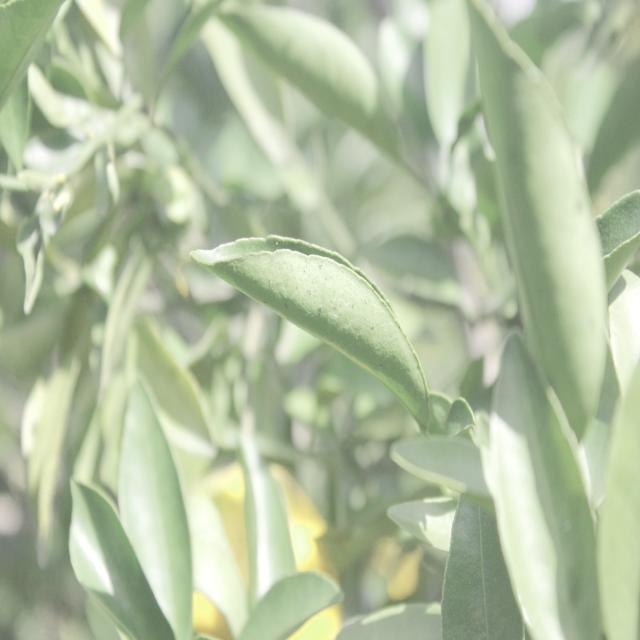melanose: (219, 218, 436, 428)
